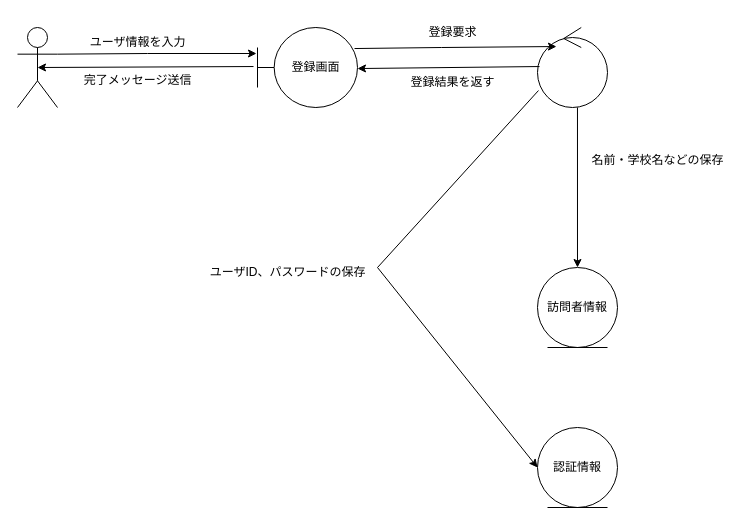
The diagram is 755 pixels wide and 525 high, and some of its shapes have lost their labels. Here are the shapes that lost their labels. From the top down, the box of each, then its label:
(16, 26, 58, 108): Actor
(536, 26, 608, 108): 登録処理
